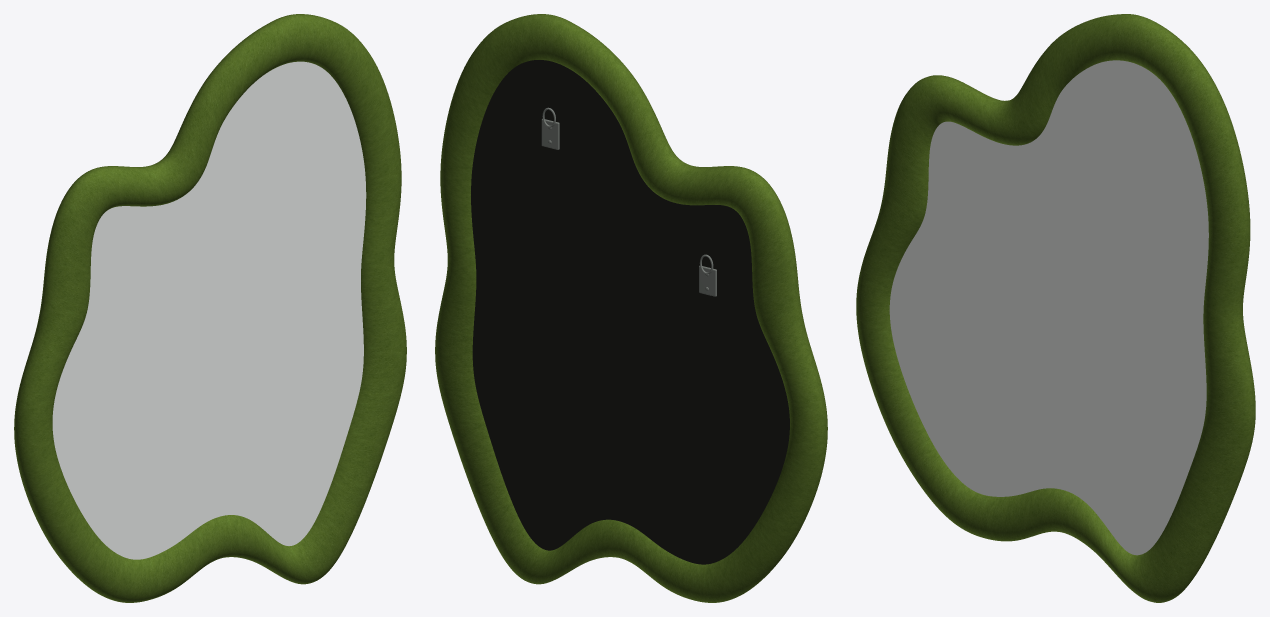
Rendered from green-velvet-mirror.glb.
3 views of the same model, side by side, from view 1: azimuth 30°, elevation 25°; view 2: azimuth 150°, elevation 25°; view 3: azimuth 330°, elevation 25° (orthographic).
Parts seen in each view (by area): view 1: Mirror reflective face | forward, Continuous sculpted velvet frame; view 2: Recessed rear backing panel, Continuous sculpted velvet frame; view 3: Mirror reflective face | forward, Continuous sculpted velvet frame.
Boxes of the visible parts, bbox=[...] form: Mirror reflective face | forward: bbox=[52, 61, 366, 559]; Continuous sculpted velvet frame: bbox=[14, 14, 406, 602]; Recessed rear backing panel: bbox=[471, 60, 789, 564]; Continuous sculpted velvet frame: bbox=[435, 14, 827, 602]; Mirror reflective face | forward: bbox=[889, 60, 1208, 555]; Continuous sculpted velvet frame: bbox=[856, 14, 1255, 602].
Size of the model in its own units: 0.508 by 0.7112 by 0.0356.
Materials: 6 (1 with a texture image).
